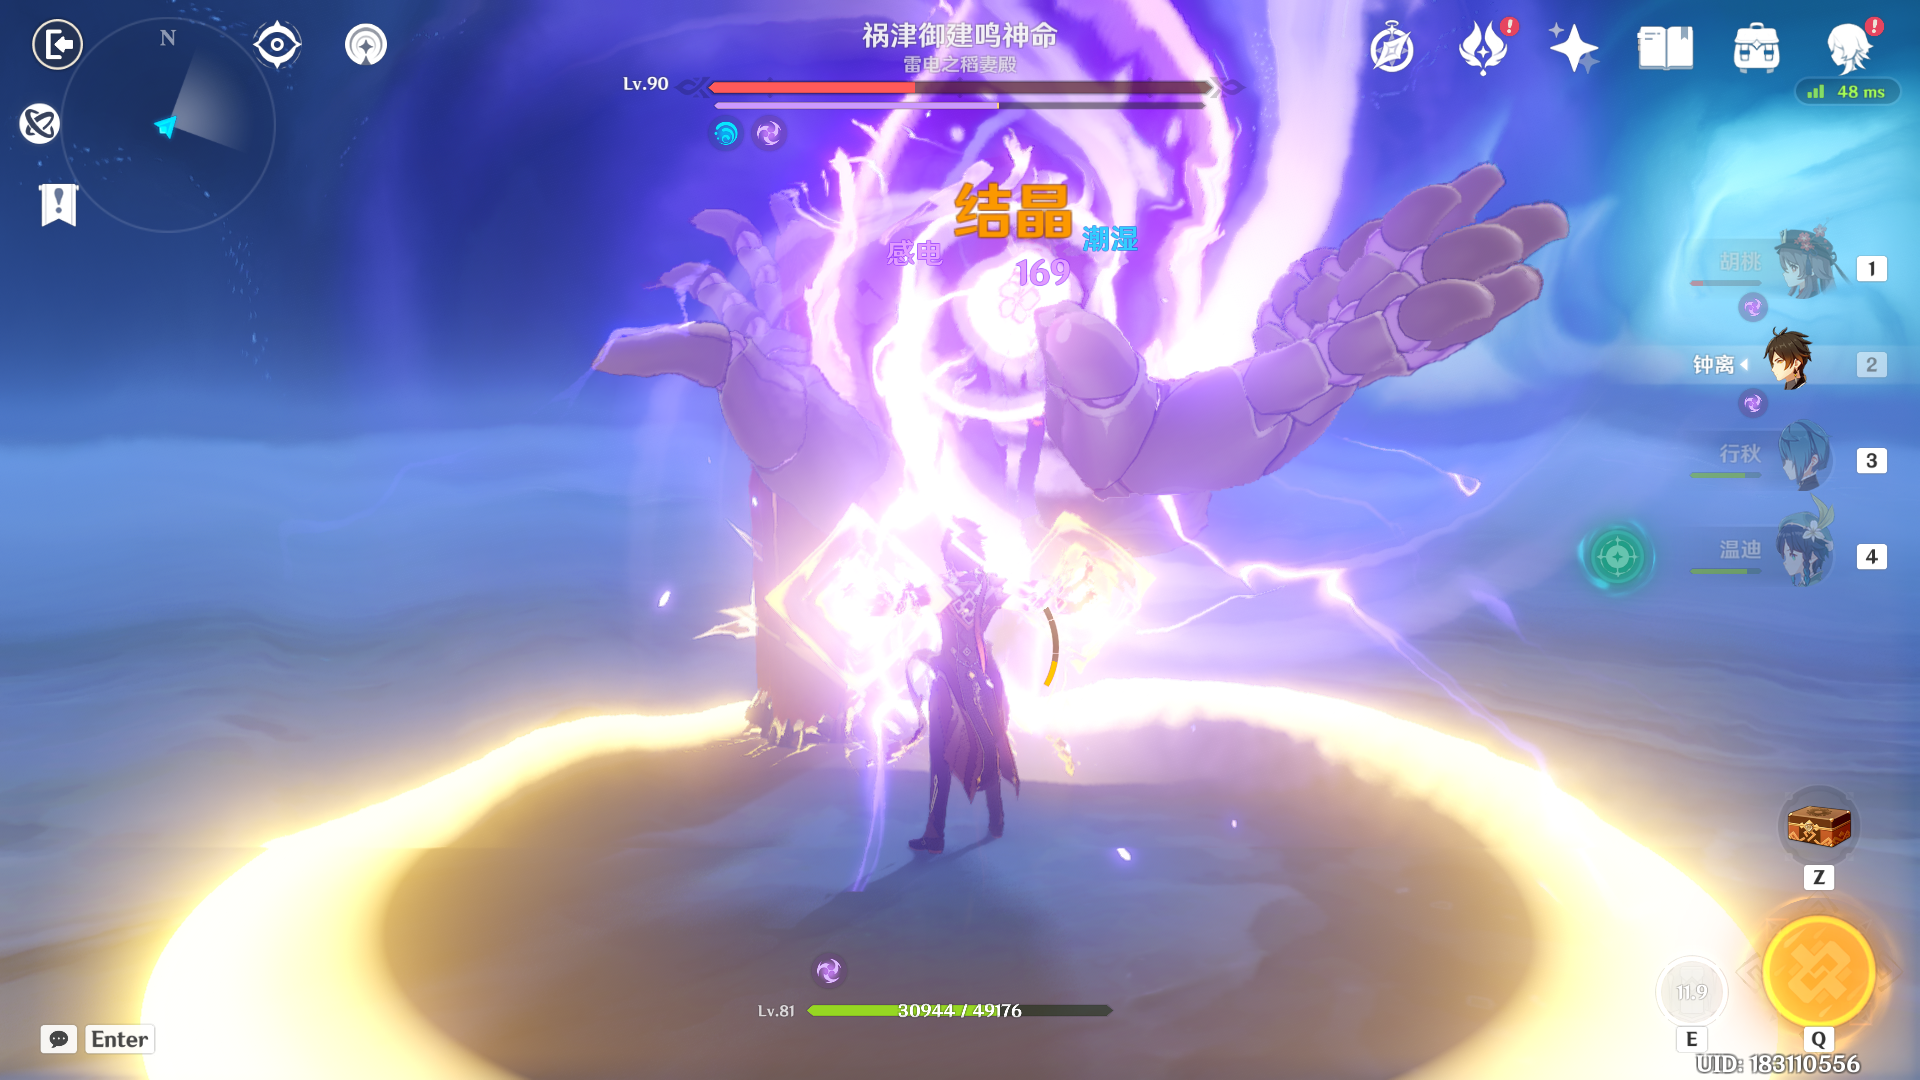character: (858, 502, 1072, 932)
